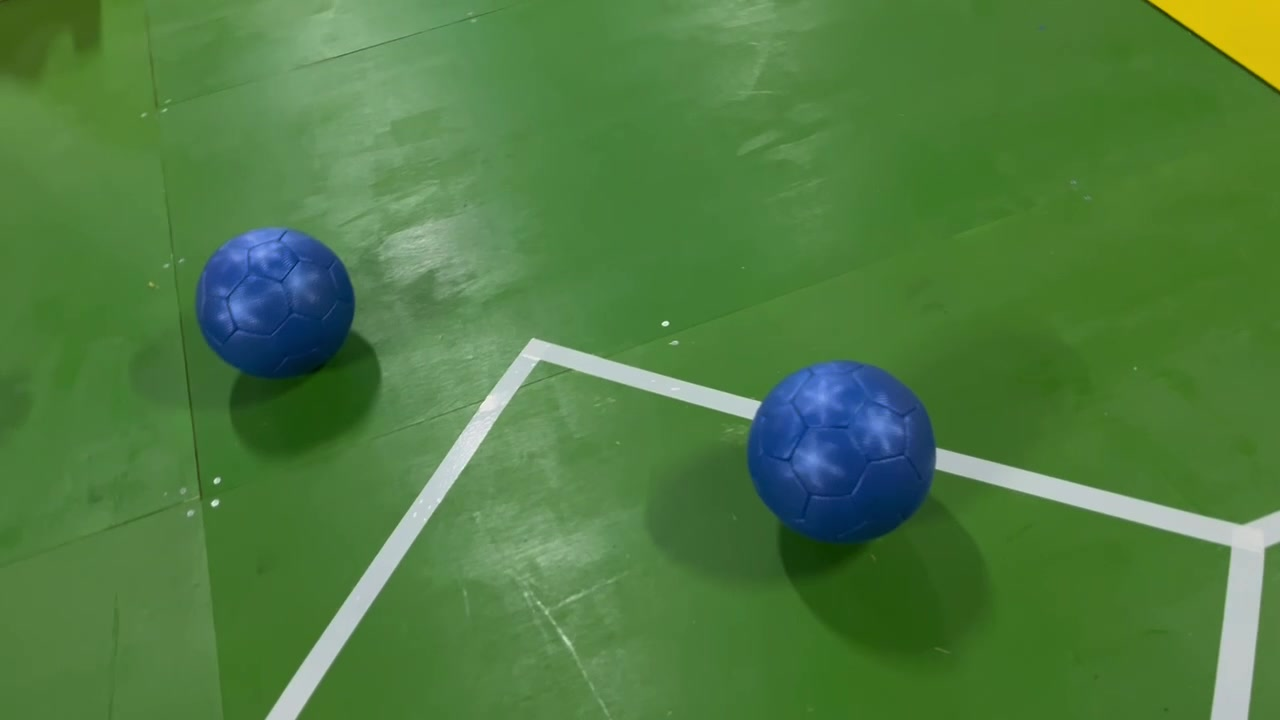blue: (739, 355, 937, 544), (194, 223, 358, 388)
